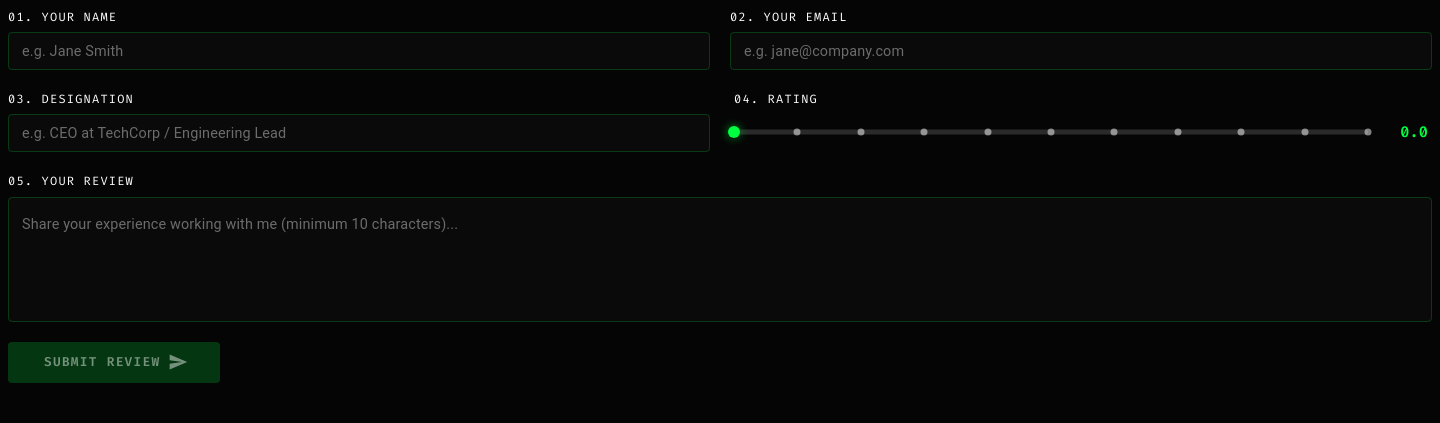
ReviewForm Component - Production Grade Test Suite › Field Validation and Error Messages › shows validation error when name contains invalid characters
In the field with placeholder "e.g. Jane Smith": (359, 51) [8,32,710,70], type "Jane123@#"
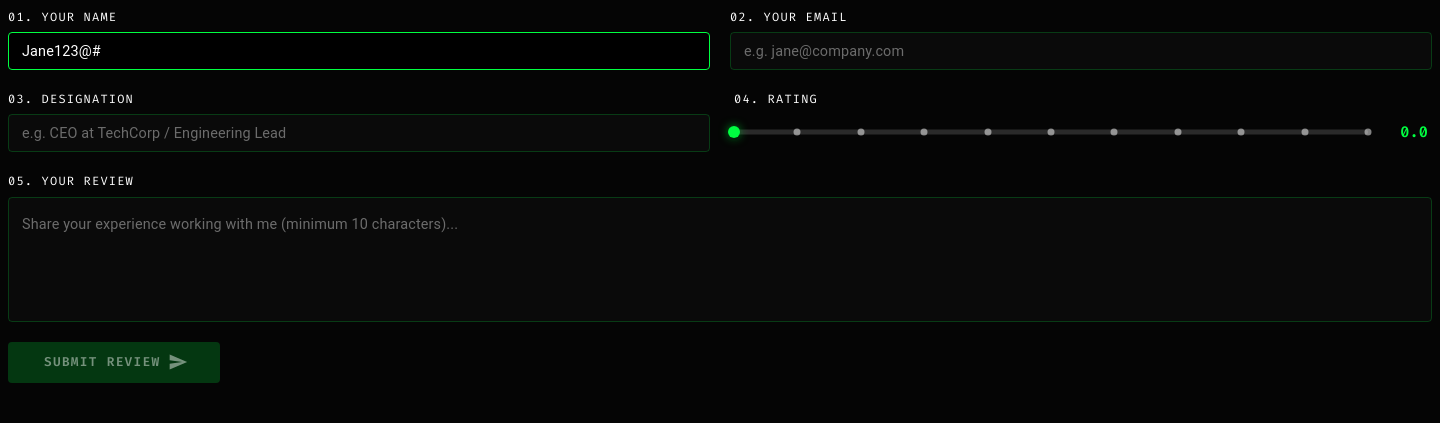
Leave the field with placeholder "e.g. Jane Smith", box [8,32,710,70]
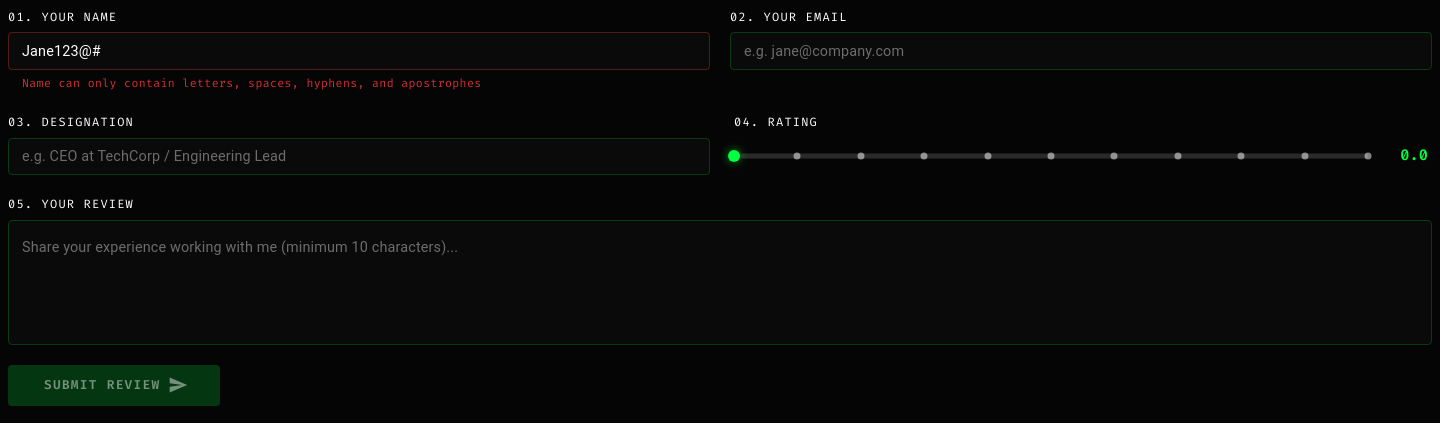
Result: the text "Name can only contain letters, spaces, hyphens, and apostrophes" is shown at [22,76,482,91]
